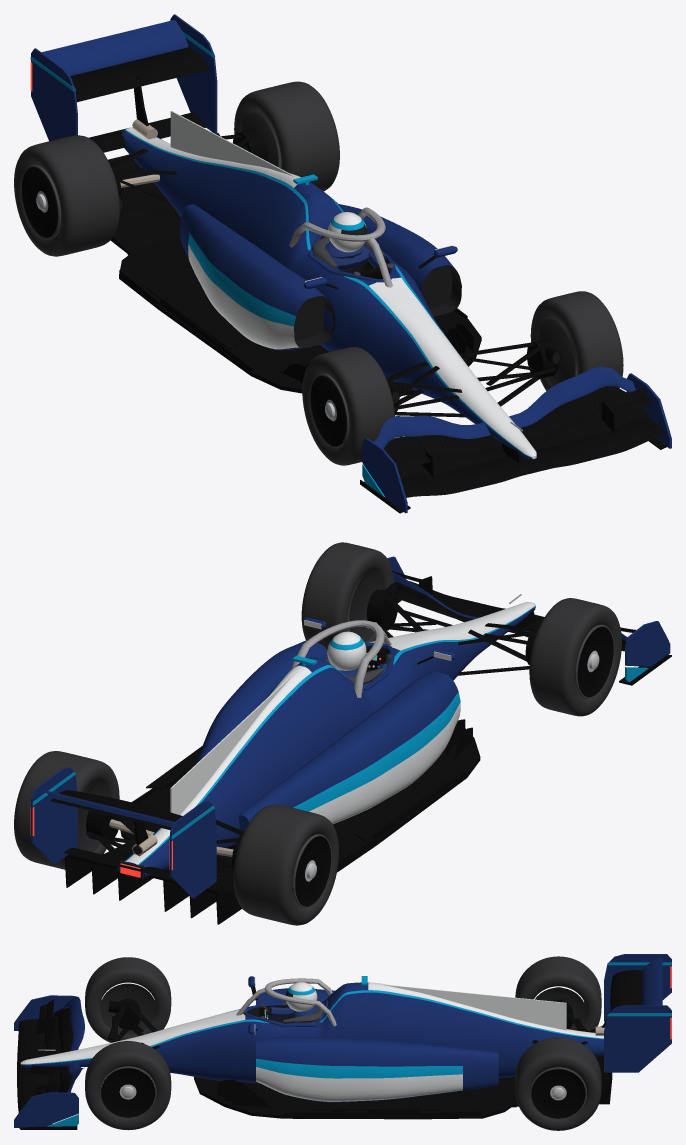
File: formula_car_blender.glb
3 views of the same model, one above another, from view 1: azimuth 30°, elevation 25°; view 2: azimuth 150°, elevation 25°; view 3: azimuth 270°, elevation 25° (orthographic). The views are drawn at different scales.
Parts seen in each view (by area): view 1: body, front_wing_shell, rear_wing_shell, wheel_RR_mesh, wheel_FR_mesh, wheel_RL_mesh, wheel_FL_mesh, drs_flap_shell; view 2: body, wheel_RR_mesh, rear_wing_shell, wheel_FR_mesh, wheel_FL_mesh, front_wing_shell, wheel_RL_mesh, drs_flap_shell; view 3: body, front_wing_shell, wheel_RL_mesh, rear_wing_shell, wheel_FL_mesh, wheel_FR_mesh, wheel_RR_mesh, drs_flap_shell.
Boxes of the visible parts, x1,y1,x2,y2 form: body: (108, 111, 560, 458); front_wing_shell: (360, 366, 671, 513); rear_wing_shell: (30, 14, 217, 152); wheel_RR_mesh: (14, 135, 119, 256); wheel_FR_mesh: (302, 347, 394, 465); wheel_RL_mesh: (234, 81, 339, 191); wheel_FL_mesh: (530, 291, 623, 390); drs_flap_shell: (42, 20, 188, 75); body: (65, 583, 538, 924); wheel_RR_mesh: (233, 804, 338, 925); rear_wing_shell: (30, 767, 216, 898); wheel_FR_mesh: (529, 598, 621, 716); wheel_FL_mesh: (301, 542, 393, 650); front_wing_shell: (387, 556, 671, 685); wheel_RL_mesh: (14, 751, 119, 869); drs_flap_shell: (41, 790, 174, 827); body: (20, 976, 612, 1119); front_wing_shell: (14, 995, 84, 1129); wheel_RL_mesh: (515, 1037, 601, 1130); rear_wing_shell: (602, 954, 671, 1072); wheel_FL_mesh: (85, 1041, 171, 1130); wheel_FR_mesh: (85, 957, 171, 1042); wheel_RR_mesh: (515, 956, 601, 1030); drs_flap_shell: (642, 957, 662, 1005).
Size of the model in its own units: 2.01 by 0.9506 by 5.5.
28 materials, 3 textured.
